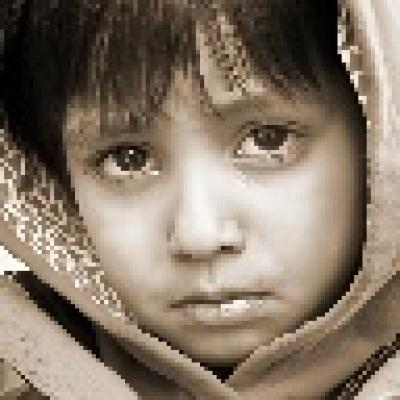sad: (67, 38, 379, 345)
